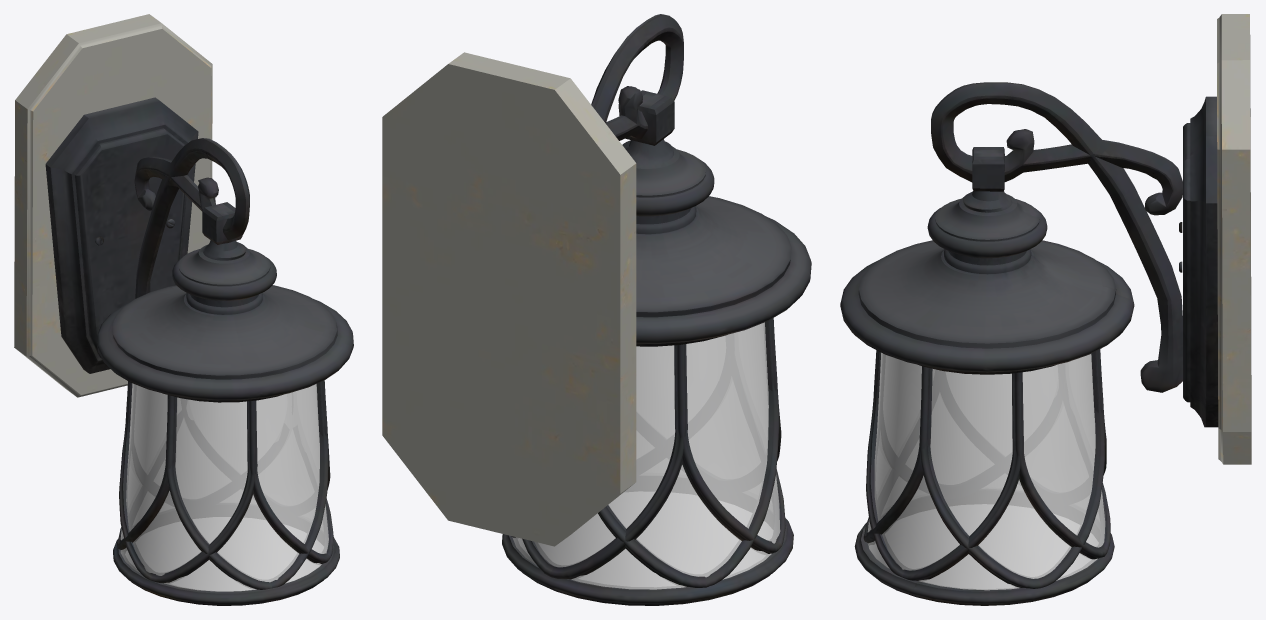
The model's file is exterior_light_sconce.glb.
3 renders of one model, left to right at view 1: azimuth 30°, elevation 25°; view 2: azimuth 150°, elevation 25°; view 3: azimuth 270°, elevation 25°, orthographic. The views are drawn at different scales.
Parts seen in each view (by area): view 1: Object_5, Object_2, Object_3; view 2: Object_3, Object_5, Object_2; view 3: Object_5, Object_2, Object_3.
Boxes of the visible parts, bbox=[...] form: Object_5: bbox=[45, 97, 353, 605]; Object_2: bbox=[120, 383, 328, 591]; Object_3: bbox=[14, 14, 212, 397]; Object_3: bbox=[382, 52, 636, 546]; Object_5: bbox=[502, 14, 811, 605]; Object_2: bbox=[512, 322, 780, 589]; Object_5: bbox=[840, 82, 1218, 605]; Object_2: bbox=[867, 352, 1105, 590]; Object_3: bbox=[1217, 14, 1251, 464].
Bounding box in the file's own units: 0.2724 × 0.527 × 0.3812.
4 materials, 2 textured.
